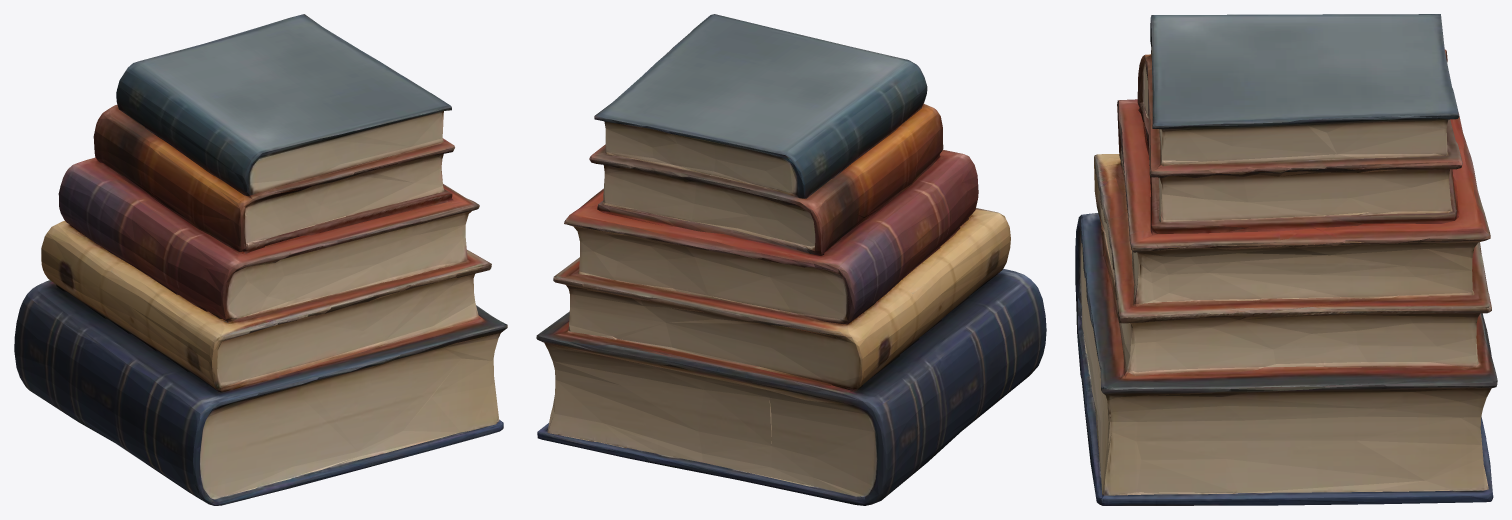
The picture shows the model from 3 angles, left to right: view 1: azimuth 30°, elevation 25°; view 2: azimuth 150°, elevation 25°; view 3: azimuth 270°, elevation 25°; orthographic projection. The views are drawn at different scales.
Visible parts, largest first — view 1: geometry_0; view 2: geometry_0; view 3: geometry_0.
Boxes of the visible parts, box(x1,y1,x2,y2) form: geometry_0: box(14, 14, 507, 505); geometry_0: box(536, 14, 1046, 505); geometry_0: box(1075, 14, 1497, 505).
Bounding box in the file's own units: 0.4962 × 0.4415 × 0.4624.
Materials: 1 (1 with a texture image).
